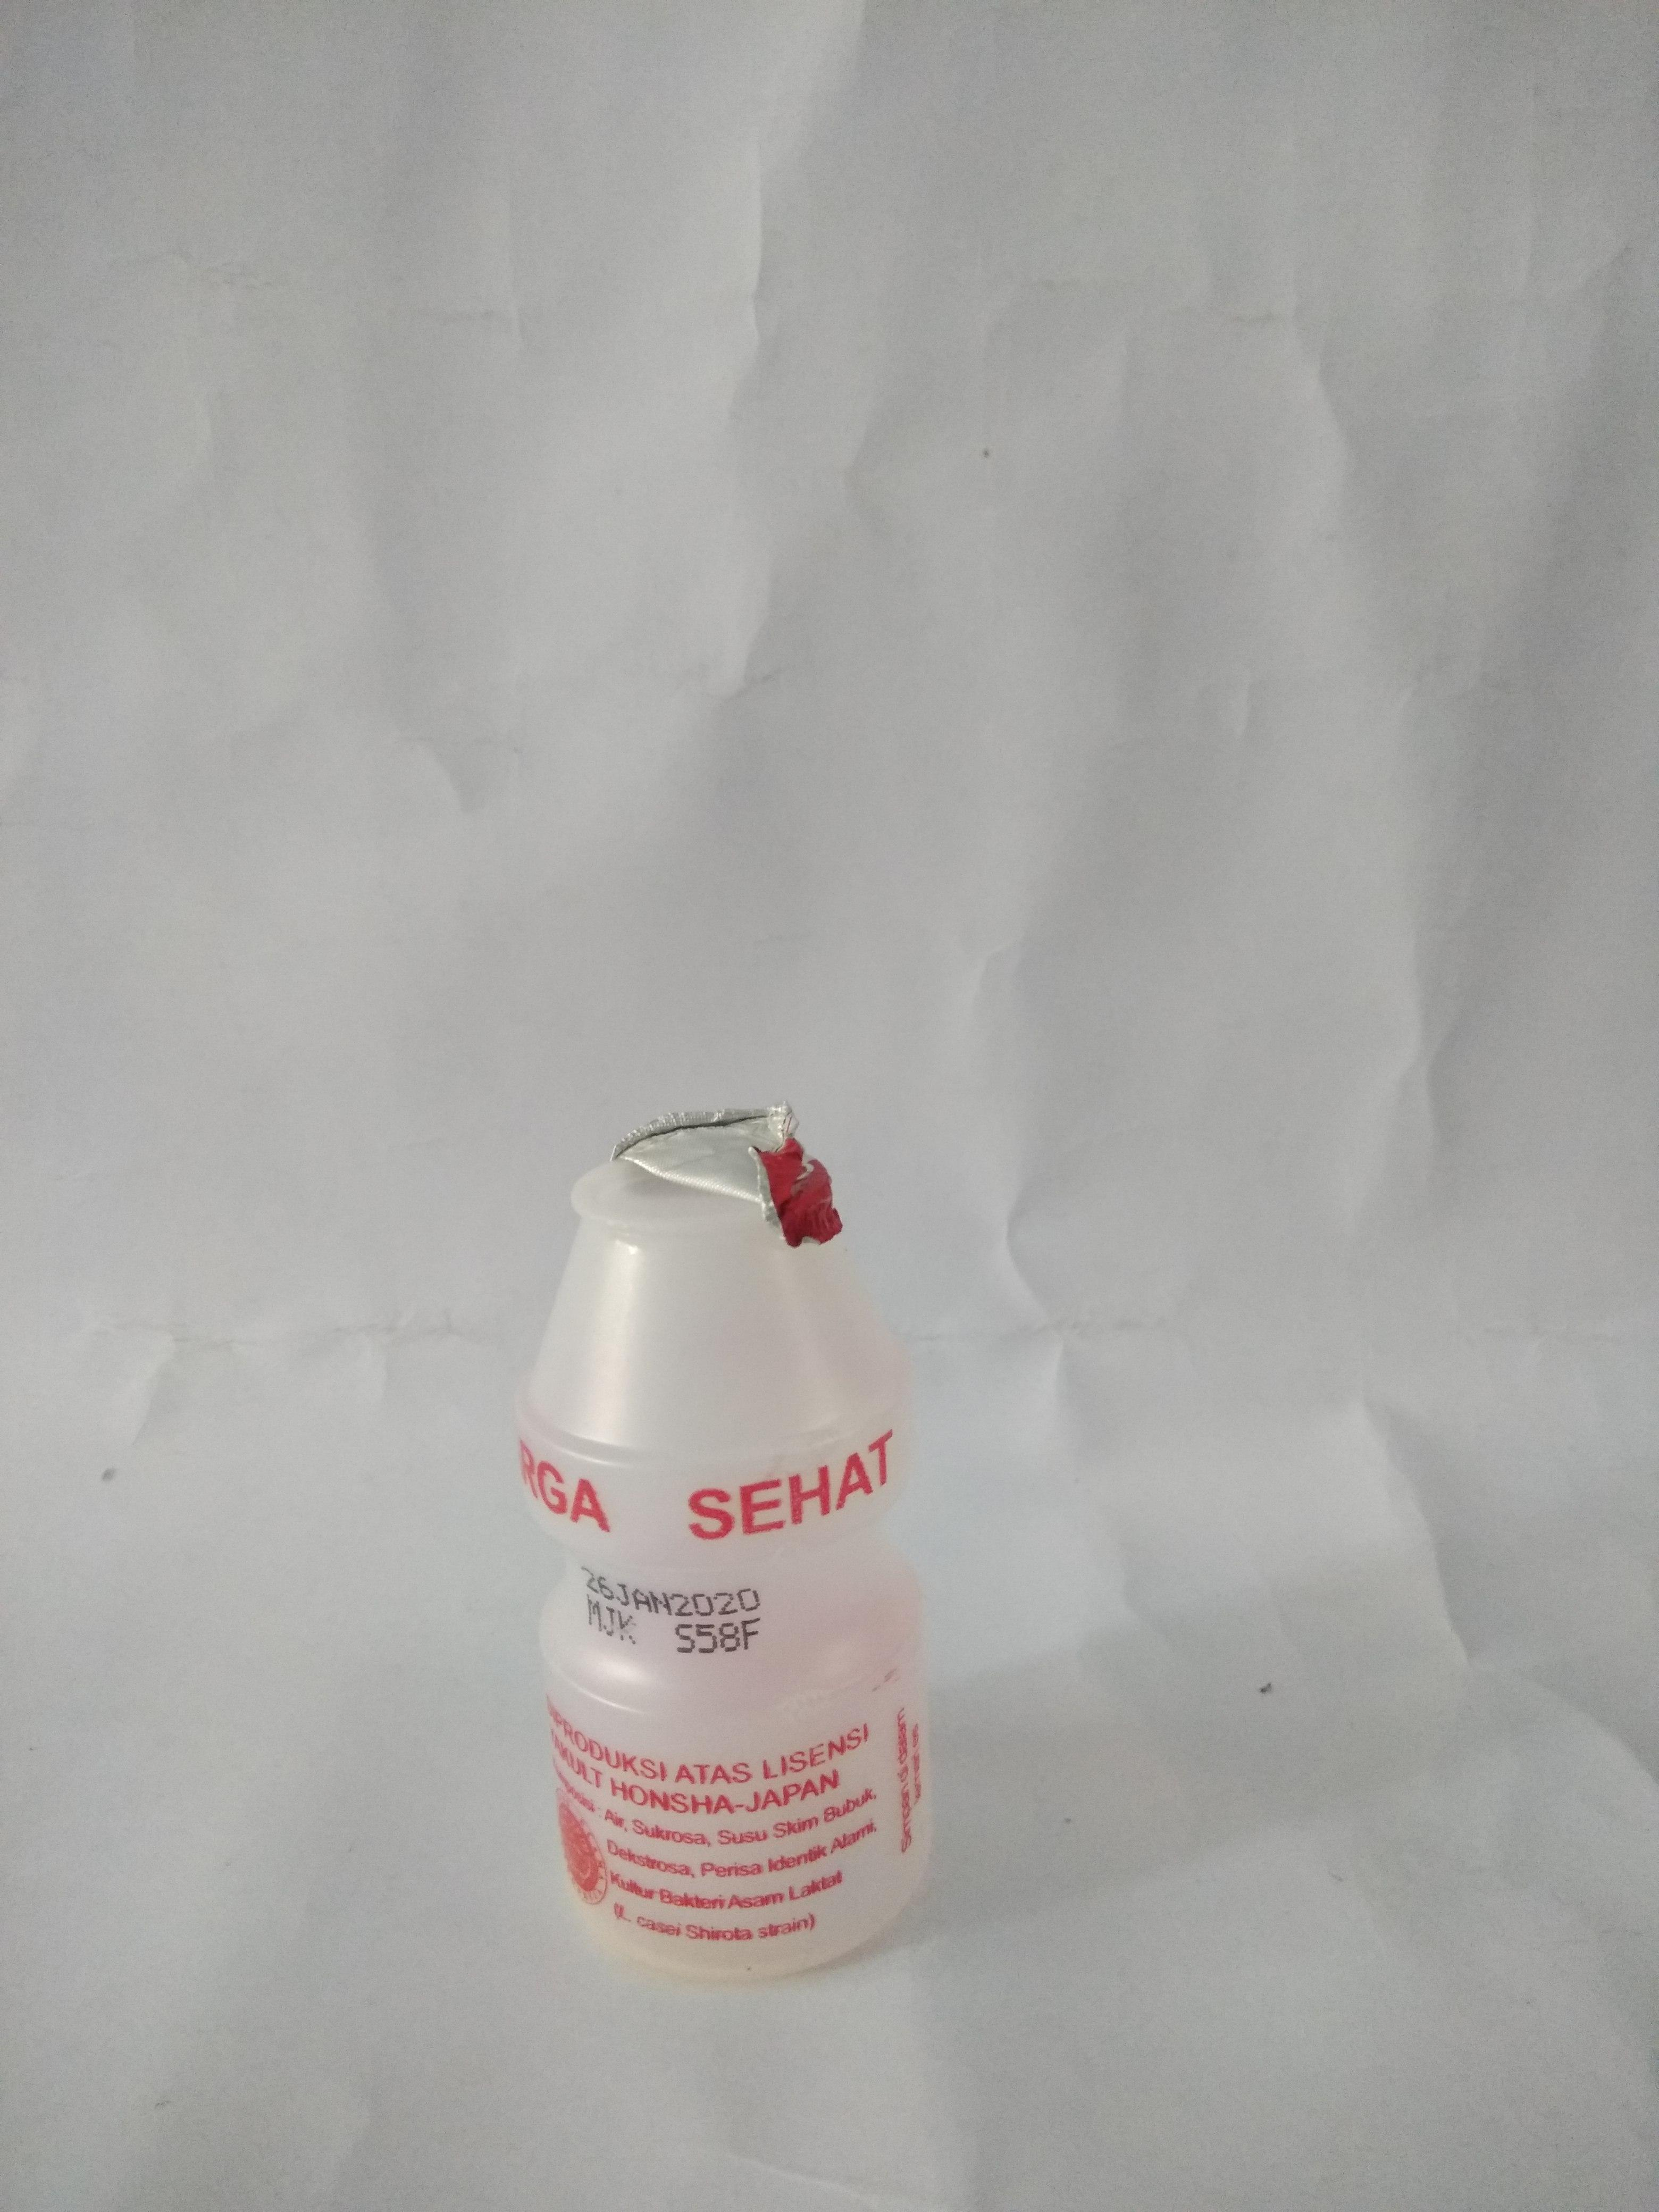PETE: (512, 1223, 932, 1982)
